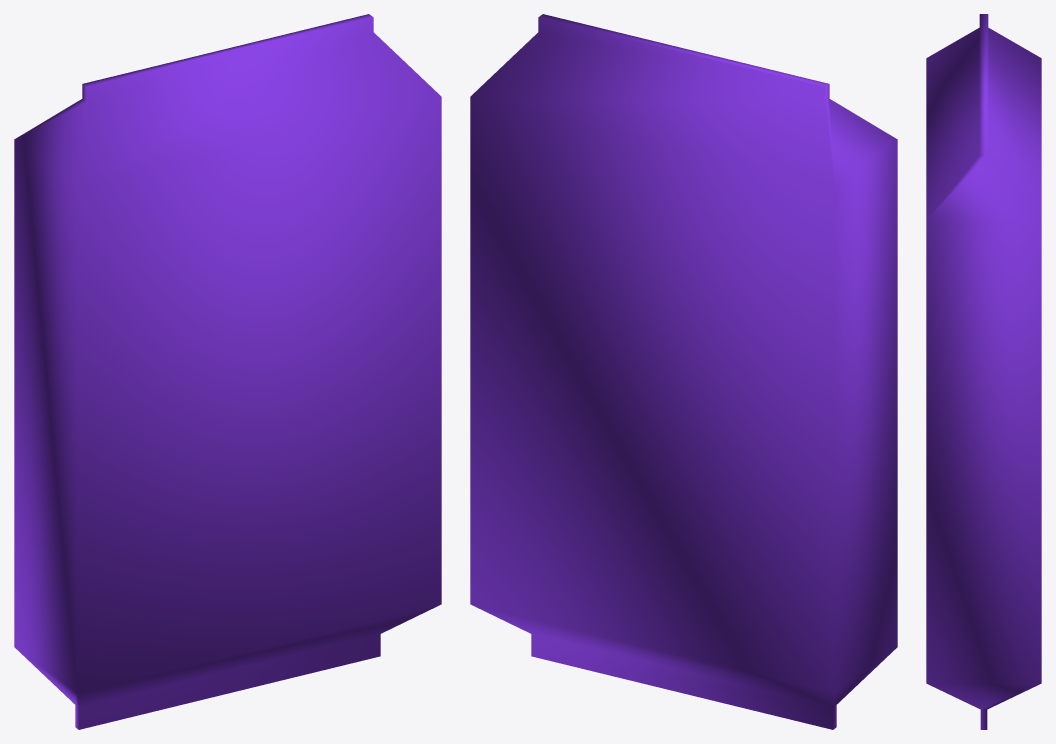
Rendered from Merendina_plastica.fbx.
3 renders of one model, left to right at view 1: azimuth 30°, elevation 25°; view 2: azimuth 150°, elevation 25°; view 3: azimuth 270°, elevation 25°, orthographic. The views are drawn at different scales.
Visible parts, largest first — view 1: Merendina1; view 2: Merendina1; view 3: Merendina1.
Part boxes in pixels (x1,y1,x2,y2): Merendina1: (14, 14, 441, 729); Merendina1: (470, 14, 897, 729); Merendina1: (926, 14, 1041, 729).
Bounding box in the file's own units: 41.1 × 69.08 × 12.33.
